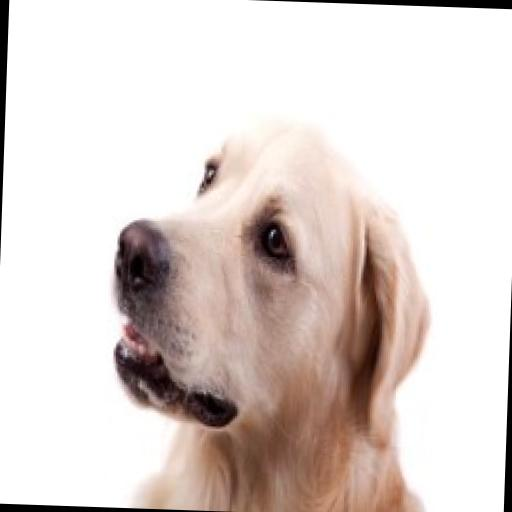dog: (92, 107, 450, 512)
